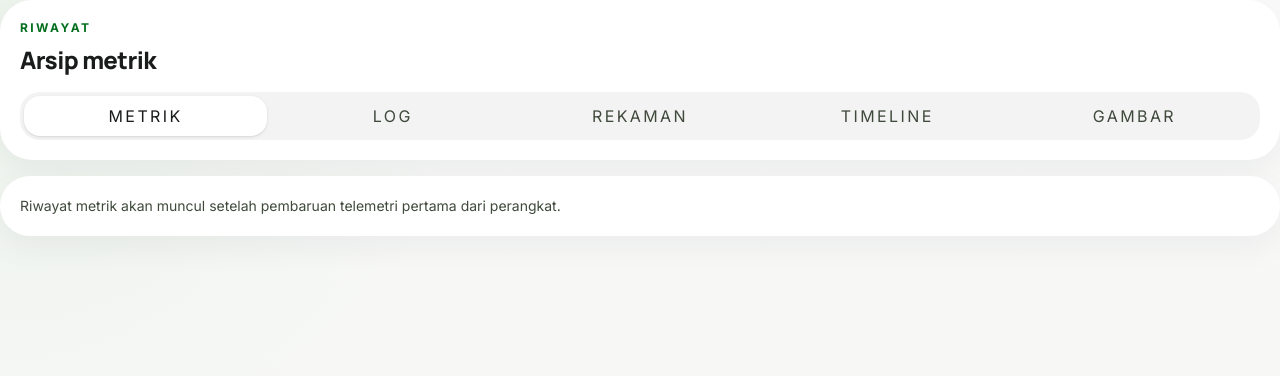
Test: HistoryPanel › recordings tab content › displays recording metadata (duration, size)
Click the button "Rekaman" at (640, 116), box [518,96,762,136]
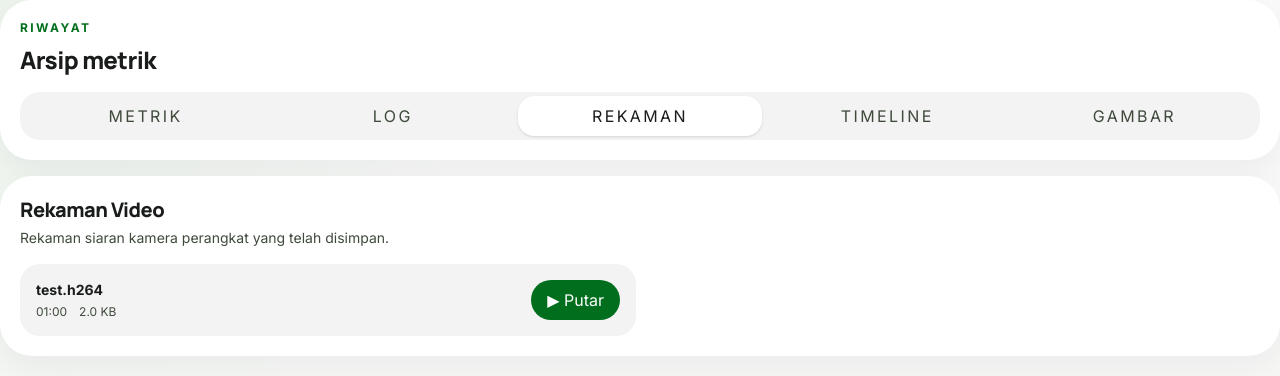
Result: the text "test.h264" is shown at [36,281,103,298]
Result: the text "01:00" is shown at [36,304,67,320]
Result: the text "2.0 KB" is shown at [79,304,116,320]
